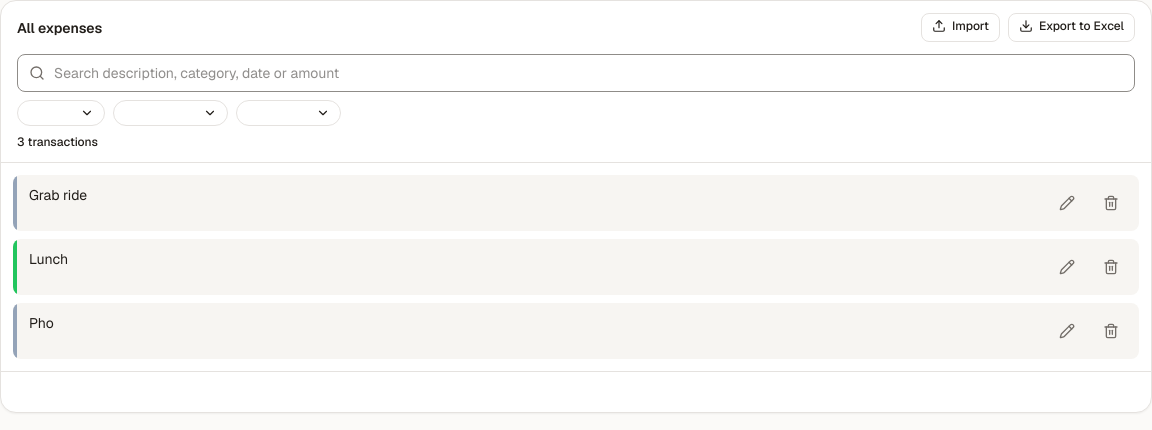
Test case: AllExpenses › filters as you type, says how many match, and keeps it in the URL
Expected: the text "3 transactions" is shown, x1=17 y1=134 x2=98 y2=150
In the search field named "Search transactions": (576, 73) x1=17 y1=54 x2=1135 y2=92, type "food"
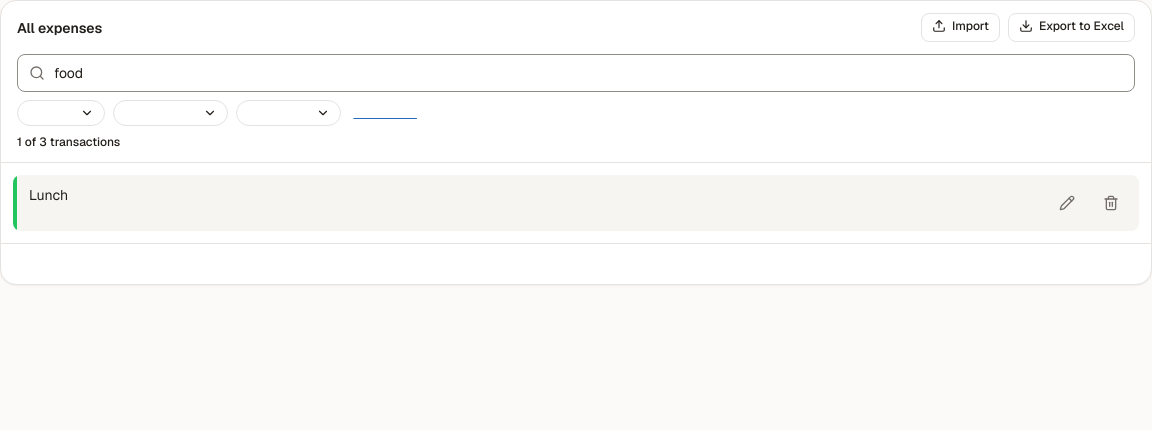
Expected: the text "Lunch" is shown, x1=29 y1=186 x2=68 y2=204
Result: the text "1 of 3 transactions" is shown at x1=17 y1=134 x2=120 y2=150
Result: the text "Grab ride" is gone
